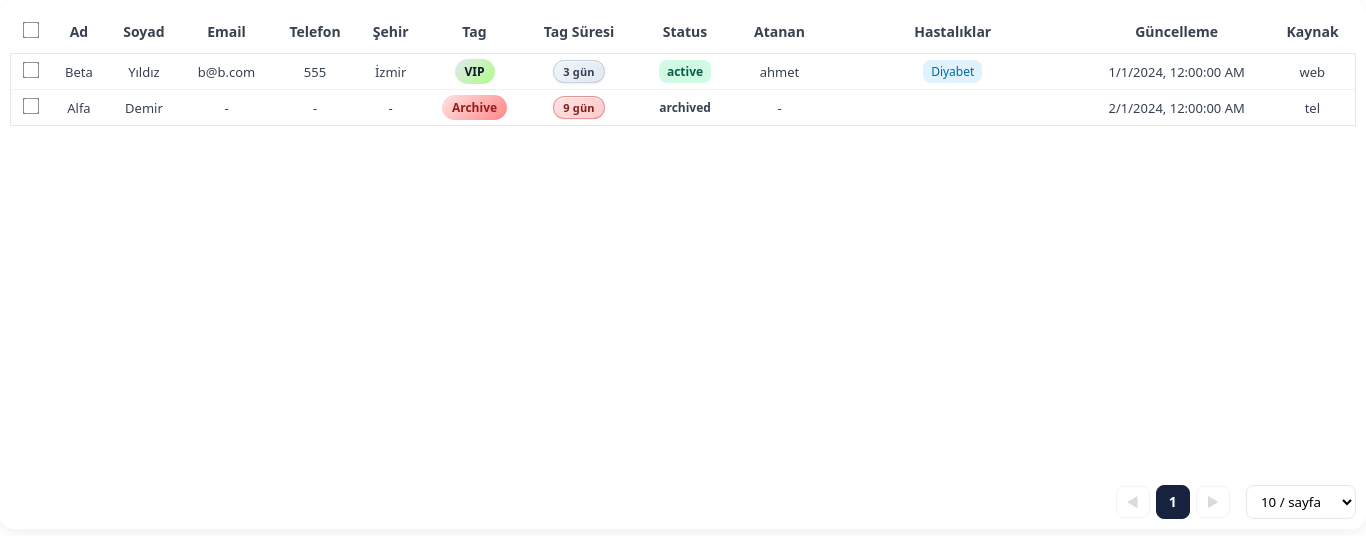
it: CustomerList › sorting › sorts by name ascending and shows the arrow
This screenshot has width=1366, height=536.
Click the column heading "Ad" at (79,32), box [50,10,107,54]
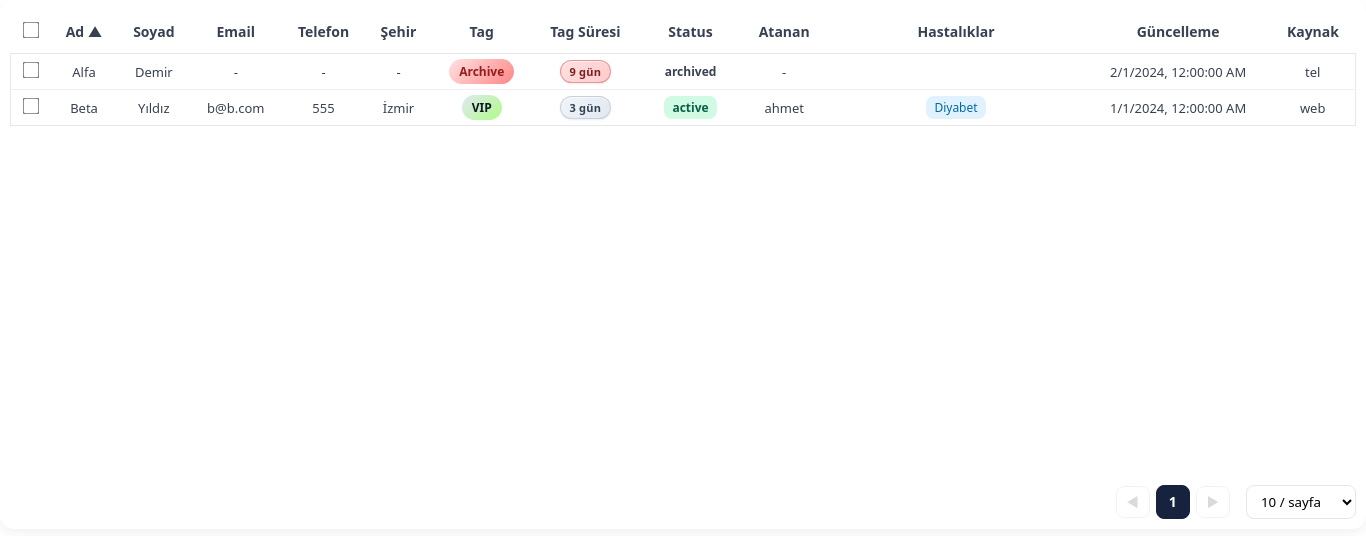
Now the link "Alfa" is shown, box [72,62,96,80]
Now the column heading "Ad ▲" is shown, box [50,10,118,54]
